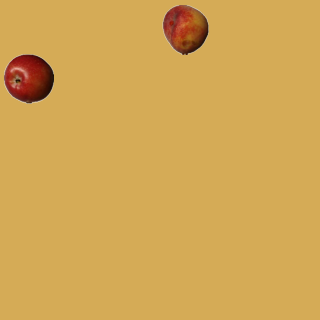Apple Braeburn: (3, 53, 53, 103)
Peach: (160, 4, 210, 54)
